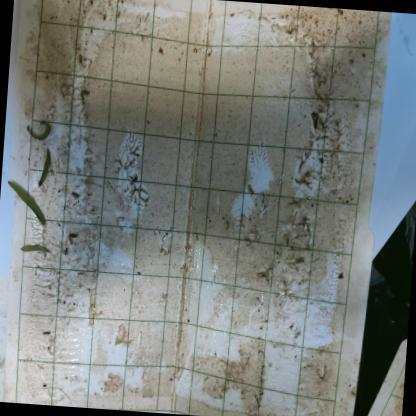prays_oleae: (68, 230, 82, 245)
